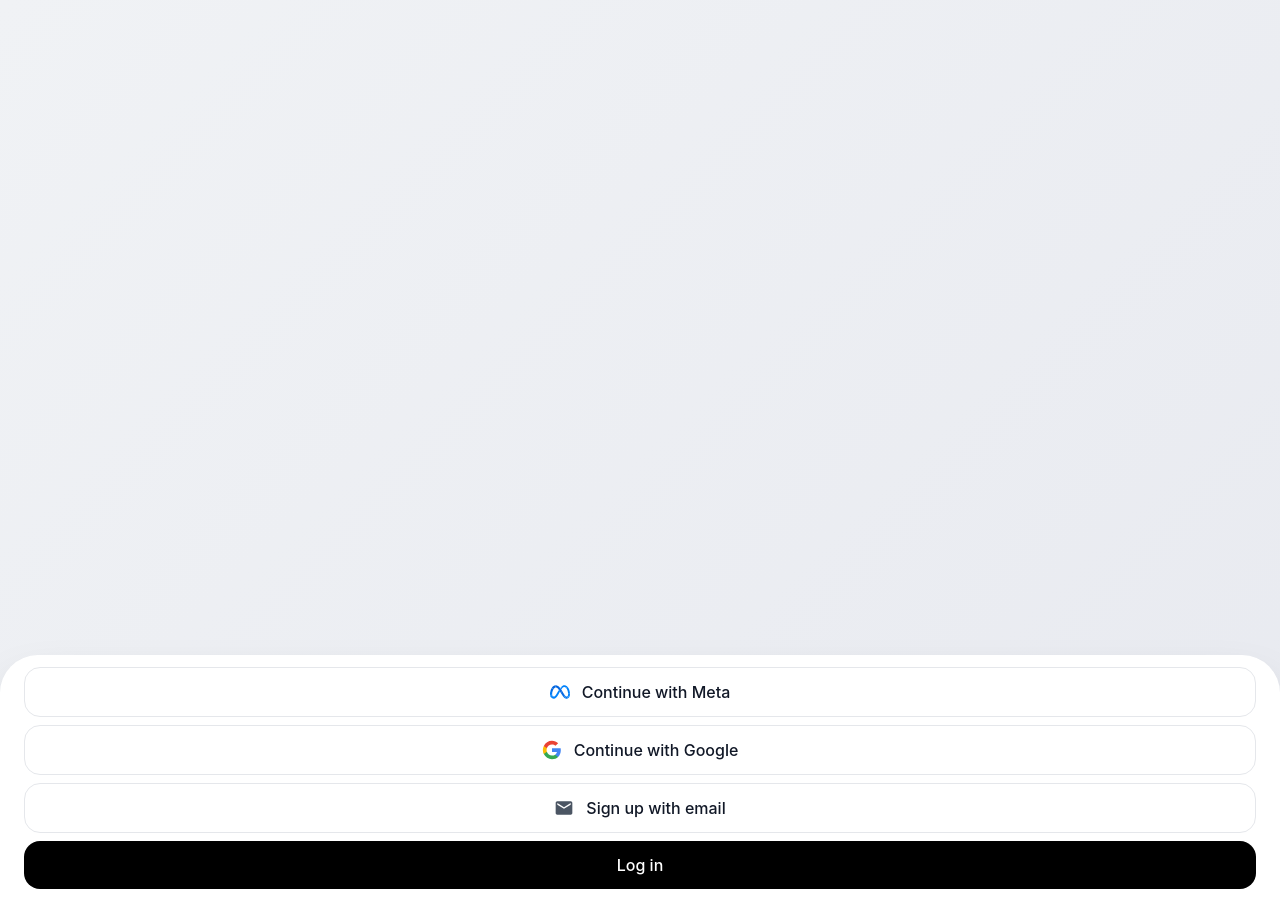
Test case: FigmaLoginModal › Google Authentication › shows loading state during Google authentication
Step 1. Click the button "Continue with Google" → x=640, y=750, box x1=24 y1=725 x2=1256 y2=775
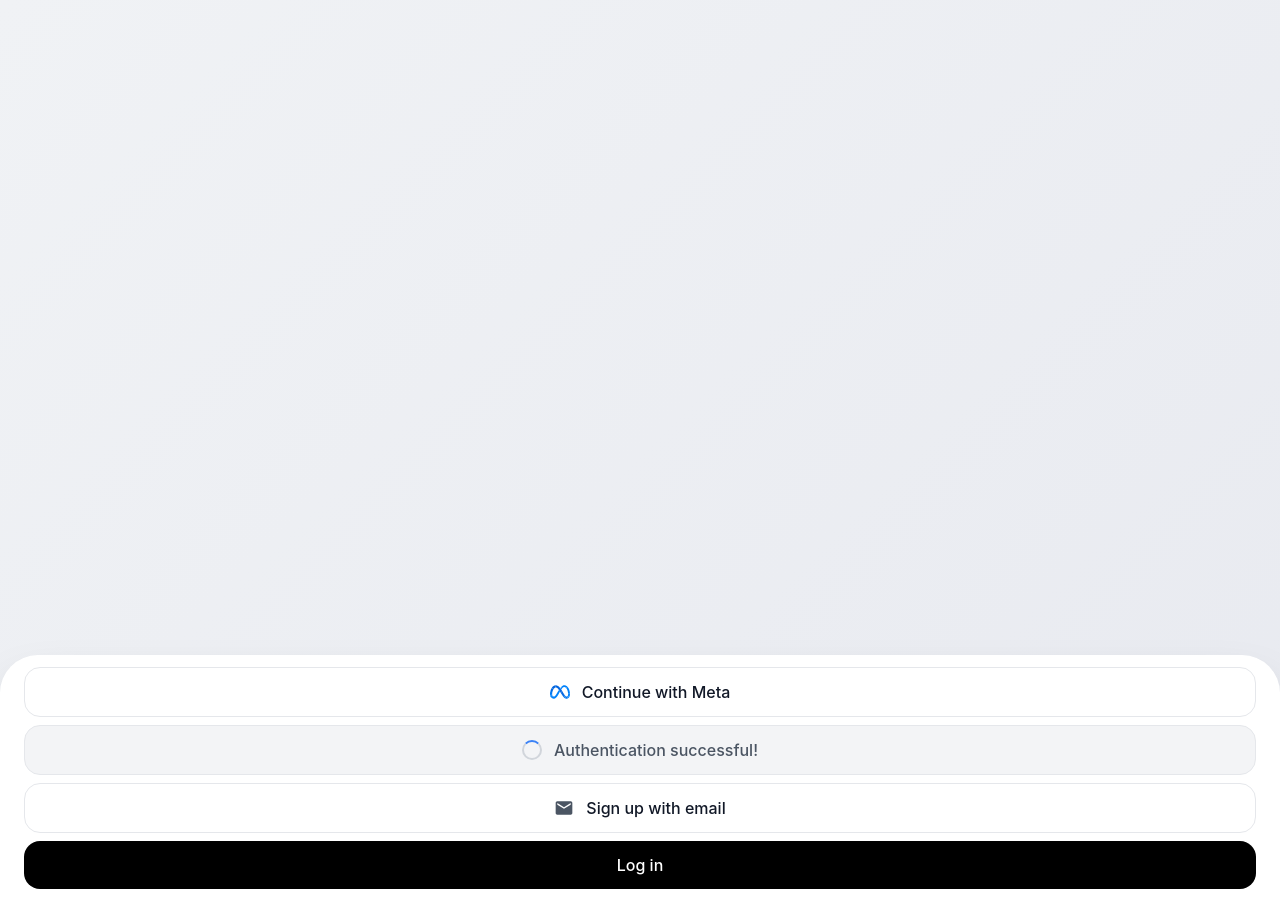
Expected: the text "Opening Google sign-in..." is shown, x1=554 y1=738 x2=758 y2=762
Expected: the element with class "animate-spin" is shown, x1=522 y1=740 x2=542 y2=760
